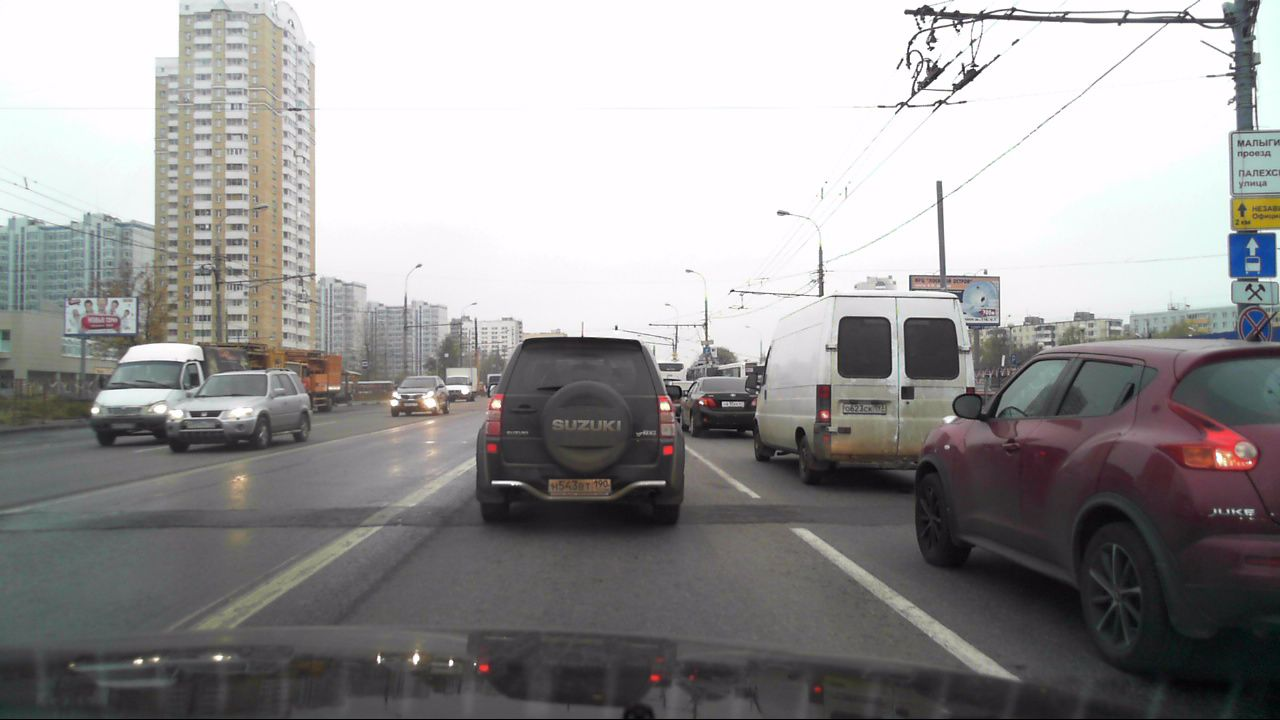No Parking: (1240, 308, 1271, 343)
